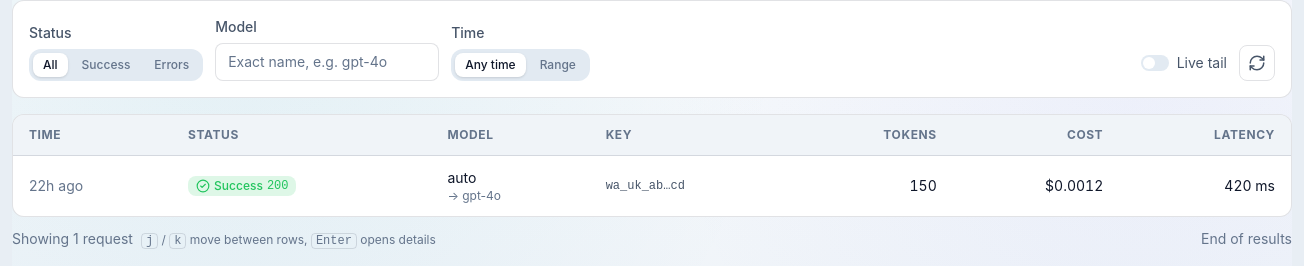
Scenario: RequestLogsPage live tail › stops polling while the tab is hidden and resumes when visible
This screenshot has width=1304, height=266.
Expected: the text "gpt-4o" is shown, [462,188,501,203]
Click the switch named "Live tail" at (1155, 63), box [1141,55,1169,71]
Wait 12000 ms
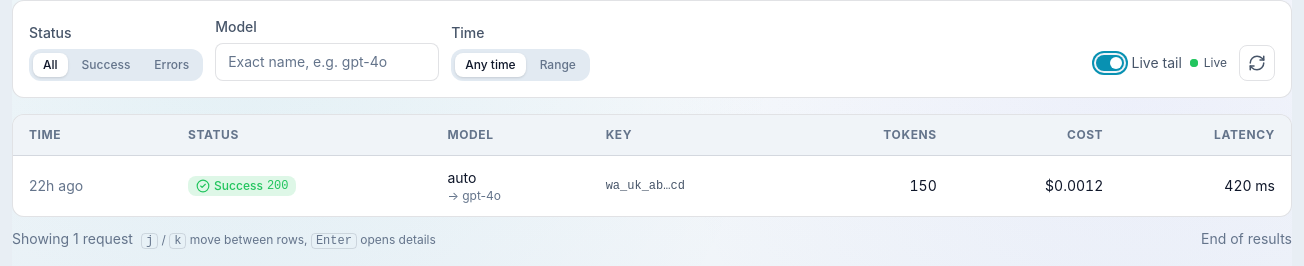
Result: the text "Paused (tab hidden)" is shown at [1190,55,1227,71]
